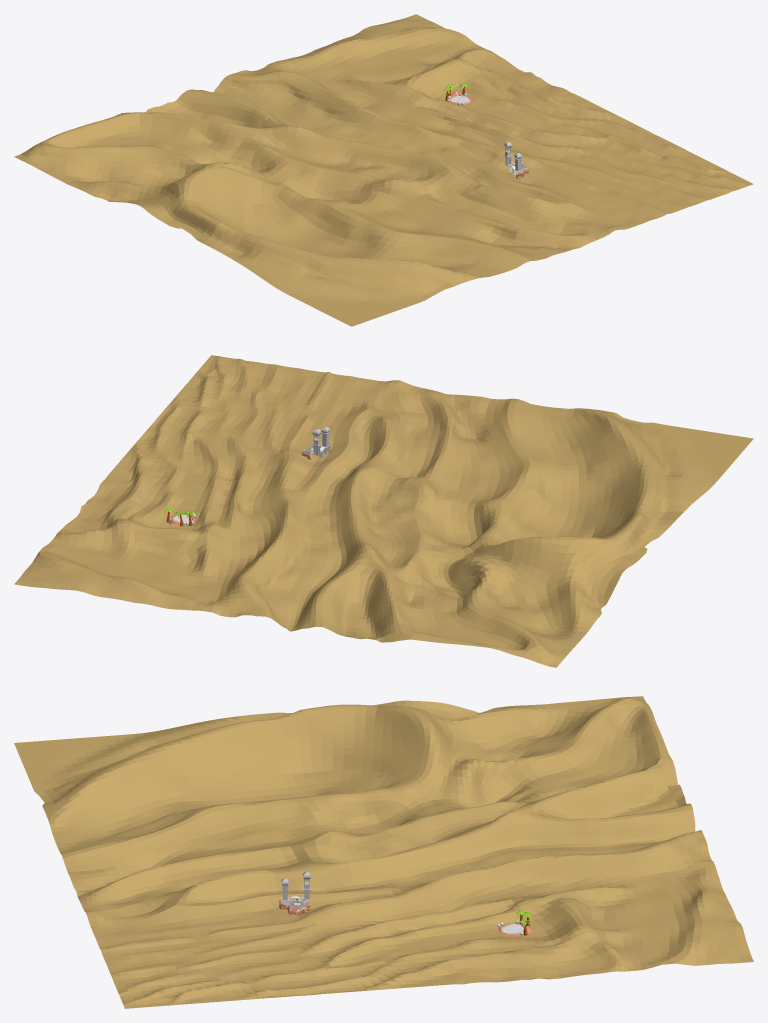
3 renders of one model, top to bottom at view 1: azimuth 30°, elevation 25°; view 2: azimuth 150°, elevation 25°; view 3: azimuth 270°, elevation 25°, orthographic. The views are drawn at different scales.
Visible parts, largest first — view 1: sand_2; view 2: sand_2; view 3: sand_2.
Part boxes in pixels (bbox=[...]): sand_2: bbox=[14, 14, 753, 326]; sand_2: bbox=[14, 355, 753, 667]; sand_2: bbox=[14, 696, 753, 1008].
Bounding box in the file's own units: 3428 × 281 × 3428.
